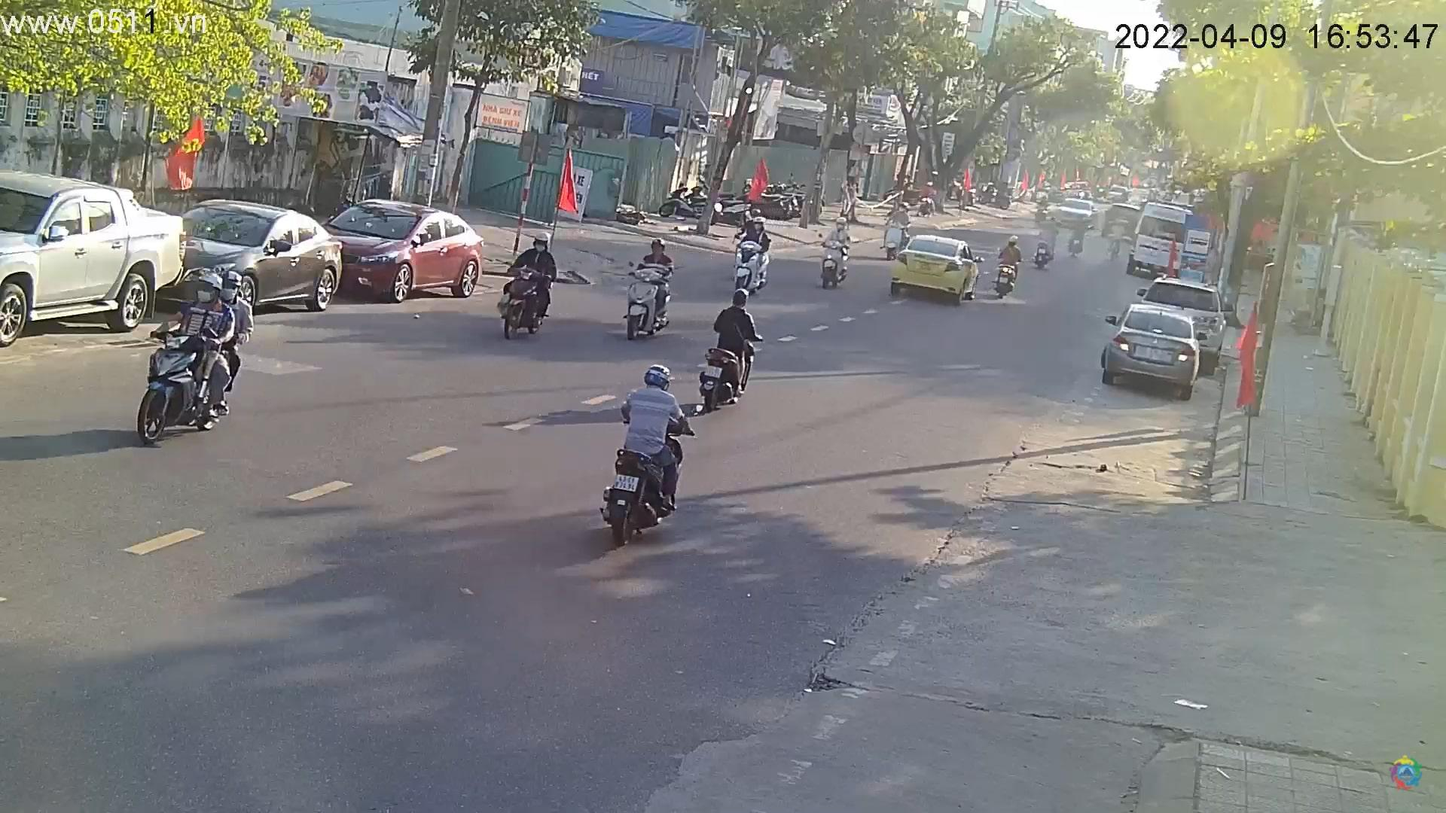car: (2, 170, 189, 353), (181, 202, 350, 318), (317, 199, 490, 306)
motorbike: (129, 303, 251, 451), (499, 257, 555, 347), (728, 230, 774, 303), (622, 279, 671, 341), (818, 232, 855, 289)
